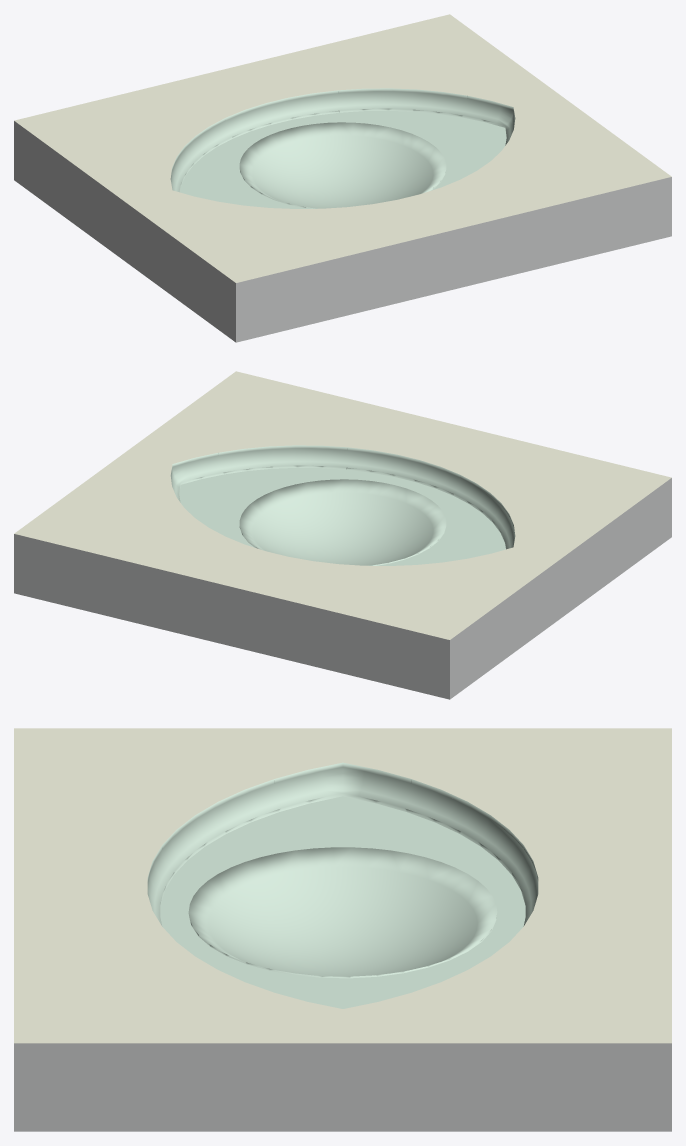
File: transdec.dae
3 views of the same model, one above another, from view 1: azimuth 30°, elevation 25°; view 2: azimuth 150°, elevation 25°; view 3: azimuth 270°, elevation 25° (orthographic). The views are drawn at different scales.
Visible parts, largest first — view 1: pool; view 2: pool; view 3: pool.
Boxes of the visible parts, x1,y1,x2,y2 form: pool: [14, 14, 671, 342]; pool: [14, 371, 671, 699]; pool: [14, 728, 671, 1131].
Bounding box in the file's own units: 116 × 102 × 15.14.
